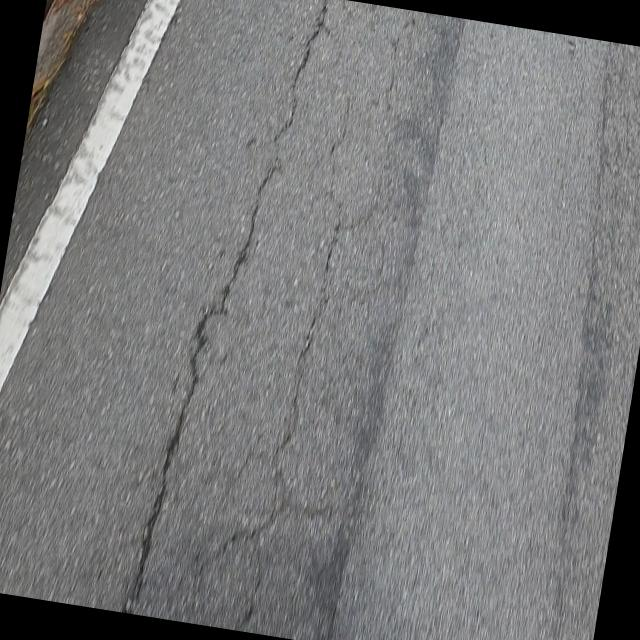Retak-Memanjang: (138, 2, 331, 599), (270, 231, 343, 531)
